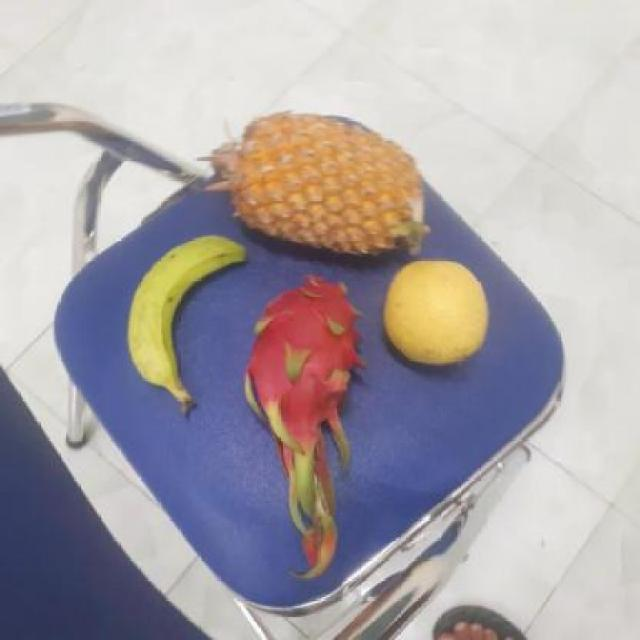banana: (126, 236, 252, 387)
dragon fruit: (244, 276, 365, 436)
pineapple: (223, 115, 429, 264)
